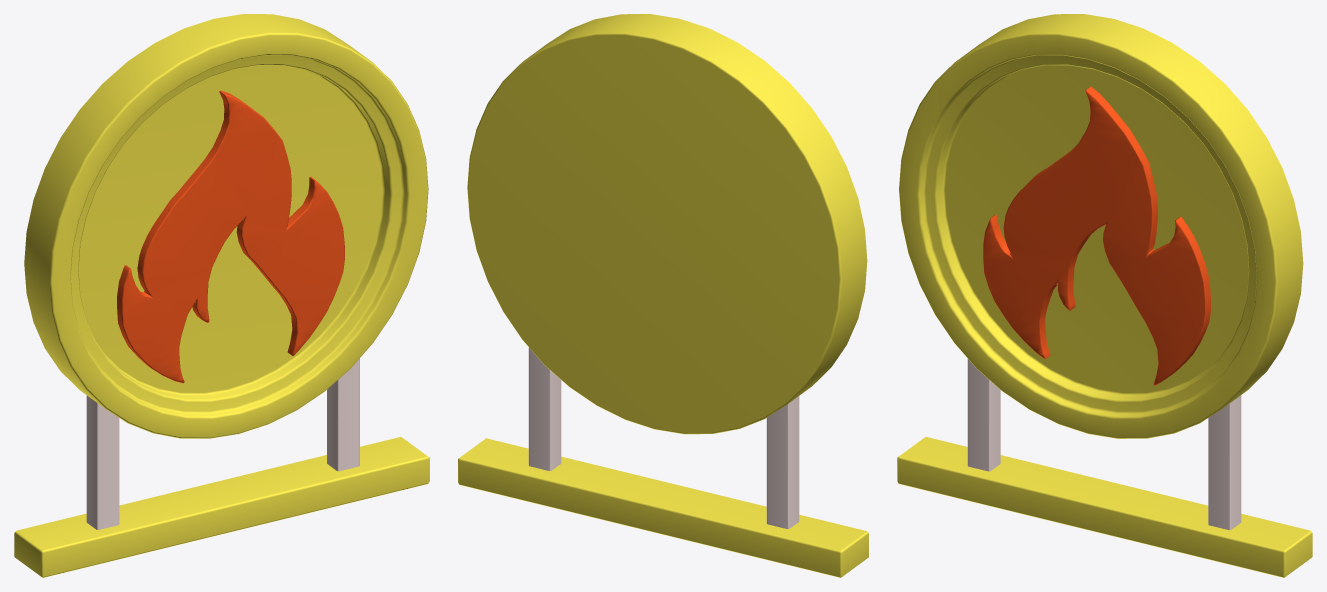
File: Public_11_Fire_Sign_1.glb
3 renders of one model, left to right at view 1: azimuth 30°, elevation 25°; view 2: azimuth 150°, elevation 25°; view 3: azimuth 330°, elevation 25°, orthographic.
Visible parts, largest first — view 1: Public_11_Fire_Sign_1; view 2: Public_11_Fire_Sign_1; view 3: Public_11_Fire_Sign_1.
Boxes of the visible parts, <box> form: Public_11_Fire_Sign_1: <box>14,14,429,577</box>; Public_11_Fire_Sign_1: <box>458,14,868,577</box>; Public_11_Fire_Sign_1: <box>897,14,1312,577</box>.
Bounding box in the file's own units: 4.33 × 5.28 × 0.6231.
1 material, 1 textured.
